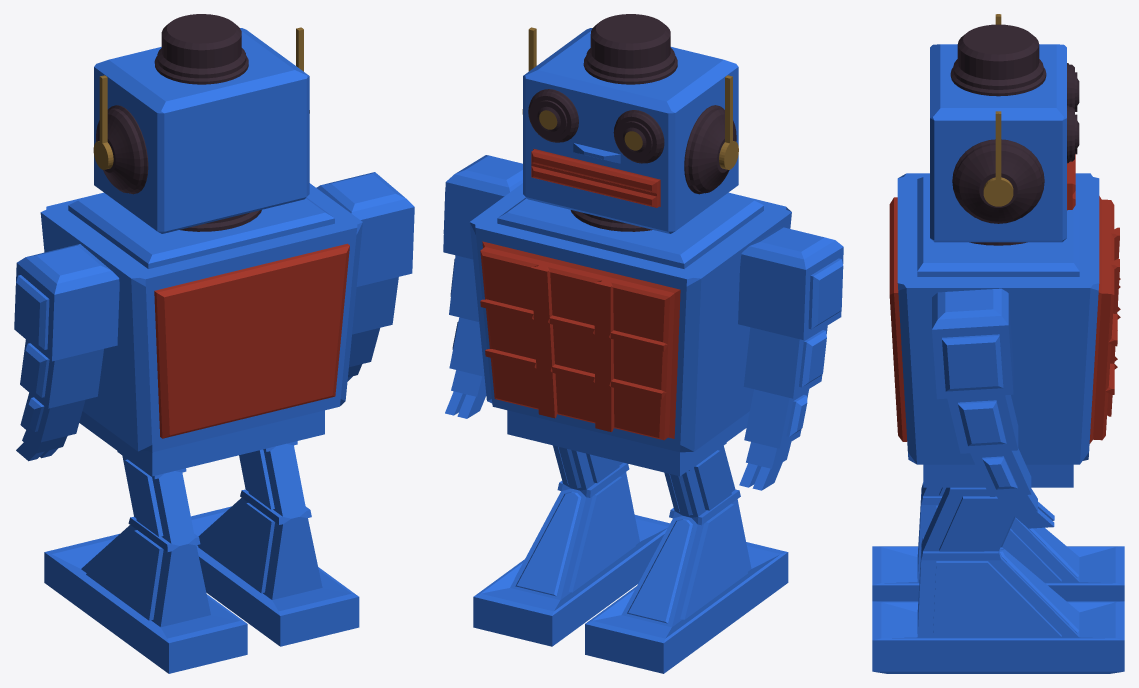
The model's file is ActionFigure.fbx.
3 renders of one model, left to right at view 1: azimuth 30°, elevation 25°; view 2: azimuth 150°, elevation 25°; view 3: azimuth 270°, elevation 25°, orthographic.
Parts seen in each view (by area): view 1: Cube, Cube.001, Cube.003, Cube.002, Circle.003, Circle.001, Circle; view 2: Cube, Cube.001, Cube.002, Cube.003, Circle.003, Circle.001, Circle.002, Circle; view 3: Cube, Cube.001, Cube.003, Cube.002, Circle.001, Circle.003, Circle.002.
Boxes of the visible parts, x1=… form: Cube: x1=40, y1=183, x2=362, y2=476; Cube.001: x1=44, y1=441, x2=359, y2=673; Cube.003: x1=94, y1=28, x2=309, y2=233; Cube.002: x1=14, y1=172, x2=414, y2=461; Circle.003: x1=154, y1=14, x2=248, y2=84; Circle.001: x1=93, y1=27, x2=309, y2=194; Circle: x1=180, y1=210, x2=261, y2=231; Cube: x1=469, y1=183, x2=791, y2=476; Cube.001: x1=473, y1=442, x2=788, y2=673; Cube.002: x1=443, y1=155, x2=843, y2=490; Cube.003: x1=523, y1=28, x2=738, y2=233; Circle.003: x1=583, y1=14, x2=677, y2=84; Circle.001: x1=522, y1=27, x2=738, y2=194; Circle.002: x1=528, y1=89, x2=664, y2=163; Circle: x1=570, y1=210, x2=652, y2=231; Cube: x1=889, y1=173, x2=1120, y2=487; Cube.001: x1=872, y1=482, x2=1124, y2=673; Cube.003: x1=930, y1=44, x2=1075, y2=242; Cube.002: x1=932, y1=288, x2=1054, y2=528; Circle.001: x1=952, y1=14, x2=1044, y2=223; Circle.003: x1=950, y1=24, x2=1046, y2=96; Circle.002: x1=1067, y1=63, x2=1079, y2=163.
Size of the model in its own units: 435 by 646 by 251.
